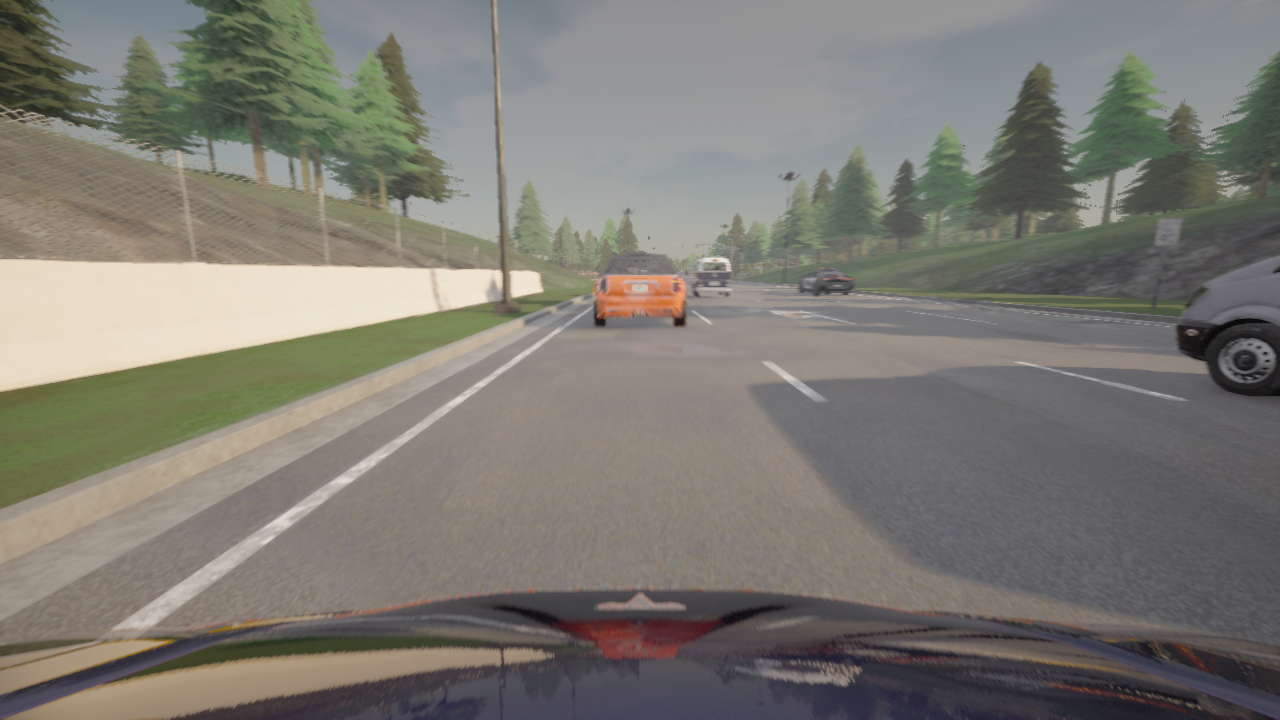cyclist: (0, 588, 1279, 719), (1175, 254, 1279, 396), (593, 252, 686, 326), (689, 257, 731, 297), (797, 268, 854, 295)
